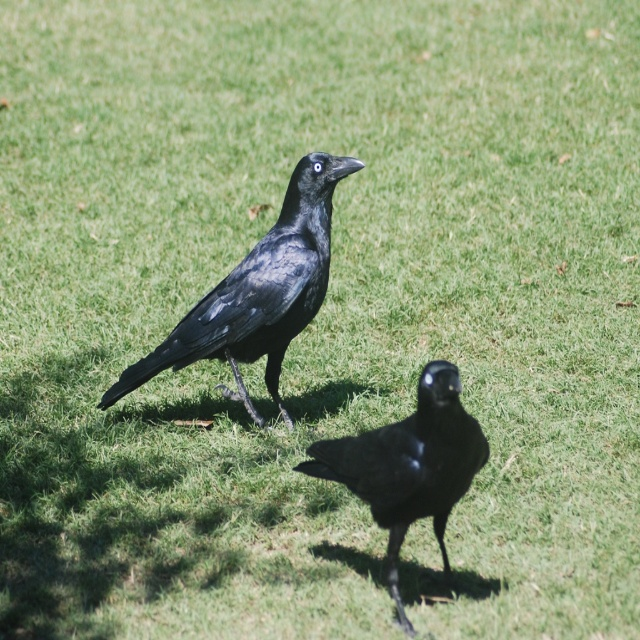Raven: (96, 152, 366, 436), (292, 358, 491, 639)
